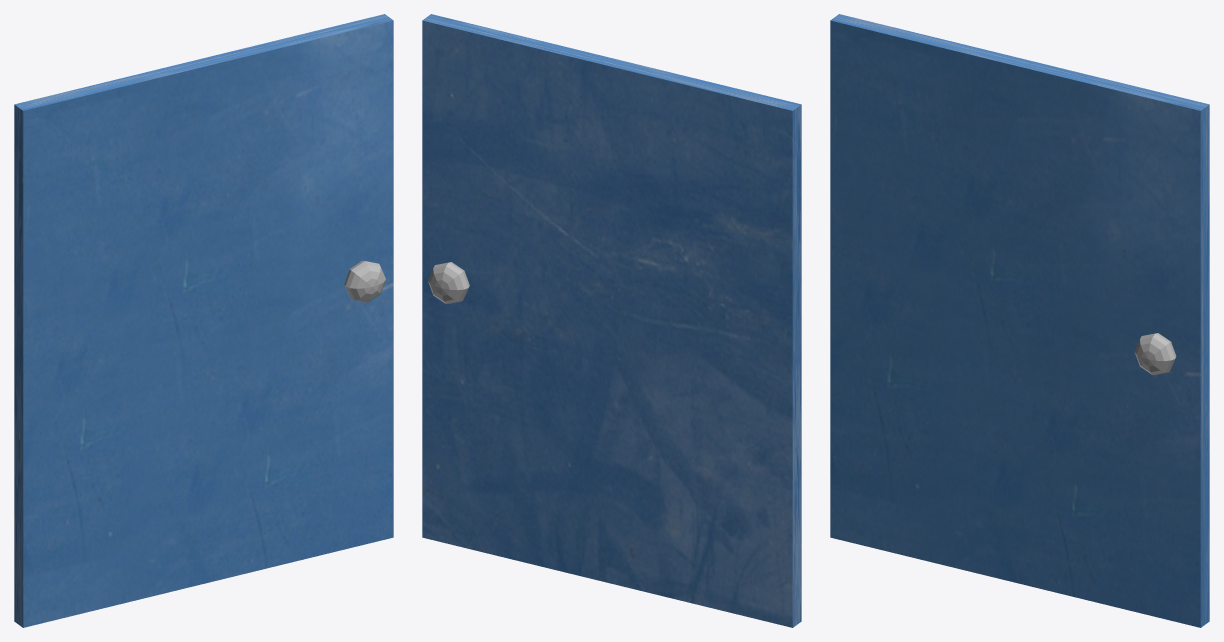
The model's file is Door.fbx.
The picture shows the model from 3 angles, left to right: view 1: azimuth 30°, elevation 25°; view 2: azimuth 150°, elevation 25°; view 3: azimuth 330°, elevation 25°; orthographic projection.
Parts seen in each view (by area): view 1: Door; view 2: Door; view 3: Door.
Boxes of the visible parts, x1,y1,x2,y2 form: Door: (14,14,393,627); Door: (422,14,801,627); Door: (830,14,1209,627).
Bounding box in the file's own units: 60 × 80 × 11.76.
